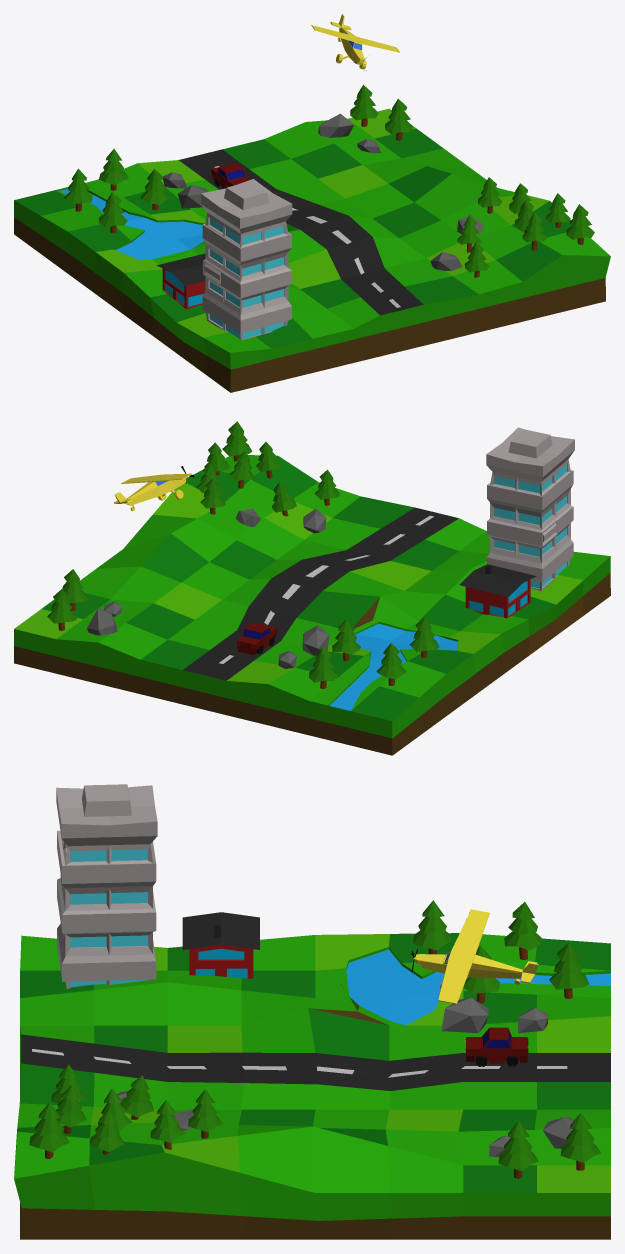
Rendered from 11low_poly_landscape.glb.
3 renders of one model, top to bottom at view 1: azimuth 30°, elevation 25°; view 2: azimuth 150°, elevation 25°; view 3: azimuth 270°, elevation 25°, orthographic. The views are drawn at different scales.
Parts seen in each view (by area): view 1: Cube, Cube.002, Cylinder.002, Cube.001, Cube.003, Cube.010, Icosphere.002, Cube.004; view 2: Cube, Cube.002, Cube.001, Cylinder.002, Cube.003, Cube.010, Cube.004, Icosphere.005, Icosphere.002; view 3: Cube, Cube.002, Cube.001, Cylinder.002, Cube.003, Cube.010, Cube.004, Icosphere.005, Icosphere.002, Icosphere.004.
Part boxes in pixels (bbox=[...]): Cube: bbox=[14, 108, 610, 392]; Cube.002: bbox=[201, 179, 292, 340]; Cylinder.002: bbox=[64, 84, 594, 277]; Cube.001: bbox=[179, 149, 423, 315]; Cube.003: bbox=[156, 253, 205, 309]; Cube.010: bbox=[311, 14, 399, 70]; Icosphere.002: bbox=[318, 113, 353, 137]; Cube.004: bbox=[211, 163, 250, 188]; Cube: bbox=[14, 455, 610, 755]; Cube.002: bbox=[486, 427, 574, 591]; Cube.001: bbox=[183, 507, 458, 680]; Cylinder.002: bbox=[47, 421, 439, 688]; Cube.003: bbox=[459, 564, 536, 618]; Cube.010: bbox=[114, 466, 194, 511]; Cube.004: bbox=[237, 623, 277, 655]; Icosphere.005: bbox=[302, 625, 329, 655]; Icosphere.002: bbox=[87, 608, 117, 635]; Cube: bbox=[14, 933, 610, 1239]; Cube.002: bbox=[56, 784, 157, 988]; Cube.001: bbox=[21, 1034, 610, 1090]; Cylinder.002: bbox=[29, 900, 601, 1178]; Cube.003: bbox=[182, 912, 259, 978]; Cube.010: bbox=[411, 909, 538, 1003]; Cube.004: bbox=[465, 1027, 528, 1063]; Icosphere.005: bbox=[441, 997, 488, 1032]; Icosphere.002: bbox=[543, 1117, 574, 1148]; Icosphere.004: bbox=[518, 1008, 548, 1033].
Bounding box in the file's own units: 18.57 × 8.5 × 18.63.
